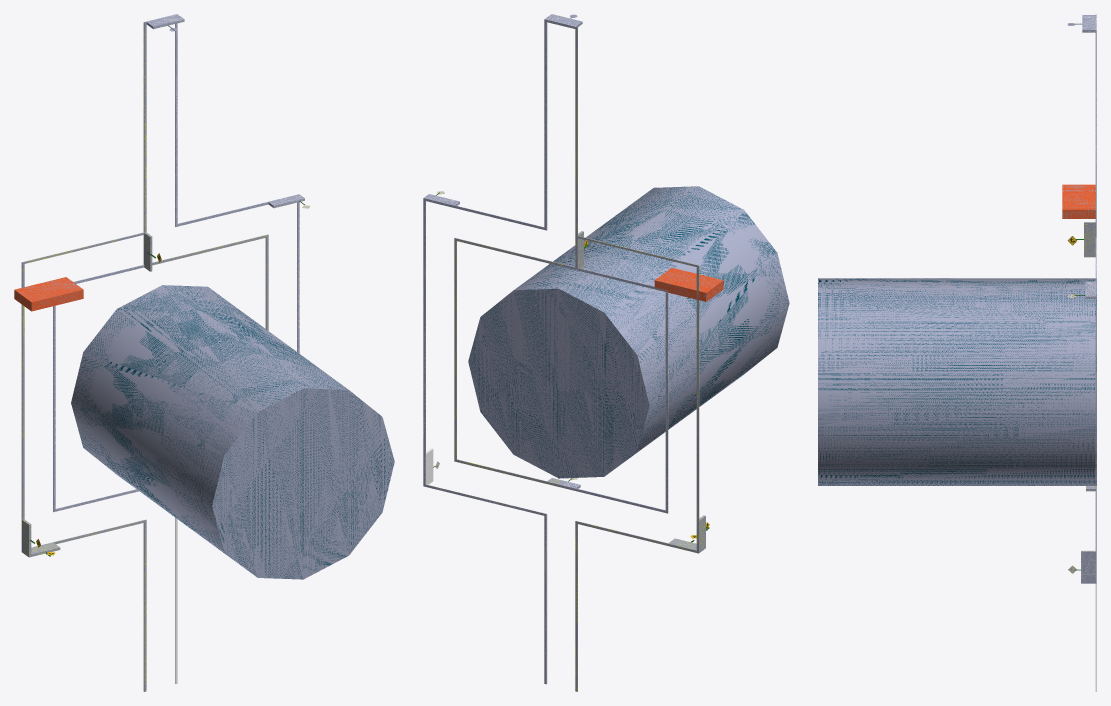
File: map.obj
3 renders of one model, left to right at view 1: azimuth 30°, elevation 25°; view 2: azimuth 150°, elevation 25°; view 3: azimuth 270°, elevation 25°, orthographic.
Visible parts, largest first — view 1: Mesh19 Model, Mesh20 Model, Mesh1 Group1 Model; view 2: Mesh19 Model, Mesh20 Model, Mesh1 Group1 Model; view 3: Mesh19 Model, Mesh20 Model, Mesh1 Group1 Model.
Part boxes in pixels (x1=…): Mesh19 Model: x1=71, y1=285, x2=394, y2=579; Mesh20 Model: x1=21, y1=14, x2=304, y2=691; Mesh1 Group1 Model: x1=14, y1=277, x2=83, y2=311; Mesh19 Model: x1=468, y1=186, x2=789, y2=478; Mesh20 Model: x1=423, y1=14, x2=705, y2=691; Mesh1 Group1 Model: x1=654, y1=268, x2=723, y2=301; Mesh19 Model: x1=818, y1=278, x2=1096, y2=485; Mesh20 Model: x1=1081, y1=14, x2=1096, y2=691; Mesh1 Group1 Model: x1=1062, y1=184, x2=1095, y2=218.
Size of the model in its own units: 7.49 by 16.81 by 6.42.
Materials: 14 (3 with a texture image).
